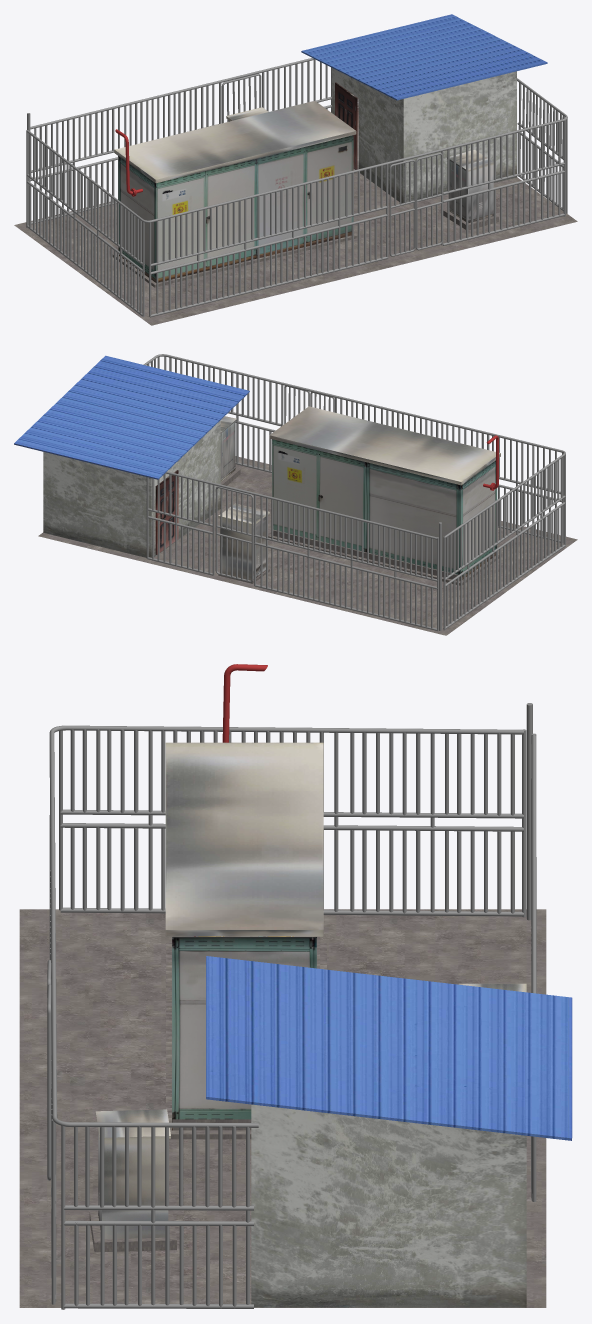
File: gyy.glb
The picture shows the model from 3 angles, top to bottom: view 1: azimuth 30°, elevation 25°; view 2: azimuth 150°, elevation 25°; view 3: azimuth 270°, elevation 25°; orthographic projection. The views are drawn at different scales.
Parts seen in each view (by area): view 1: GYY_07, 外壳, GYY_06, GYY_05, GYY_04, GYY_02; view 2: GYY_07, GYY_06, 外壳, GYY_05, GYY_03, GYY_02, GYY_04; view 3: GYY_06, GYY_05, GYY_07, 外壳, GYY_04, GYY_02.
Boxes of the visible parts, x1,y1,x2,y2 form: GYY_07: [26, 58, 567, 317]; 外壳: [114, 101, 356, 282]; GYY_06: [301, 14, 547, 203]; GYY_05: [14, 169, 577, 325]; GYY_04: [443, 150, 498, 230]; GYY_02: [112, 231, 357, 287]; GYY_07: [143, 354, 565, 631]; GYY_06: [14, 355, 249, 557]; 外壳: [269, 406, 500, 580]; GYY_05: [38, 456, 577, 635]; GYY_03: [218, 503, 269, 583]; GYY_02: [268, 529, 501, 585]; GYY_04: [220, 416, 240, 485]; GYY_06: [206, 956, 572, 1307]; GYY_05: [19, 909, 546, 1307]; GYY_07: [47, 703, 536, 1309]; 外壳: [165, 742, 323, 1130]; GYY_04: [89, 1109, 176, 1252]; GYY_02: [166, 936, 326, 1139].
Bounding box in the file's own units: 10.07 × 3.52 × 5.66.
21 materials, 8 textured.
